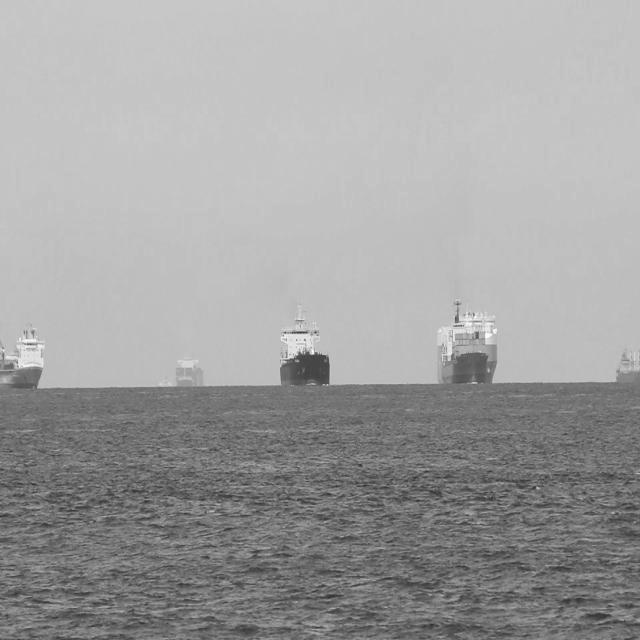ship: (435, 290, 500, 388), (279, 296, 332, 388), (0, 314, 48, 391), (172, 354, 205, 391), (615, 342, 639, 382), (158, 374, 176, 390)
